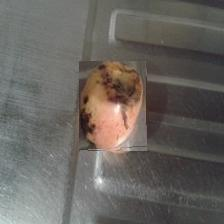Mango Semirotten: (80, 62, 148, 152)
